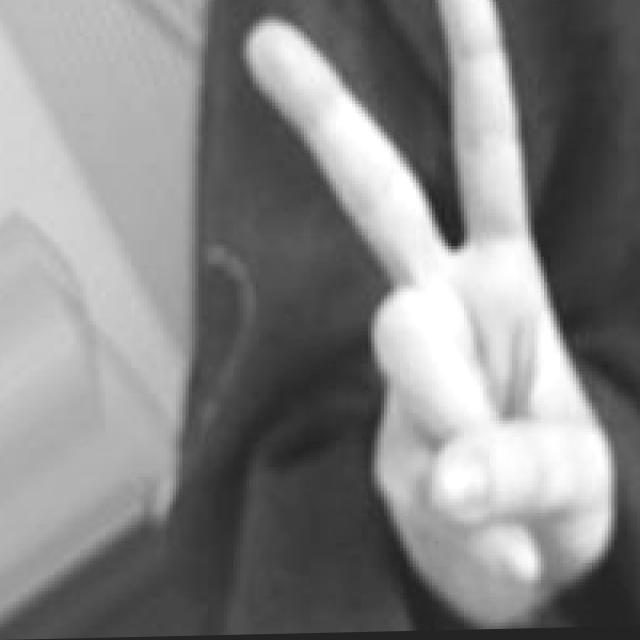V: (246, 0, 612, 632)
